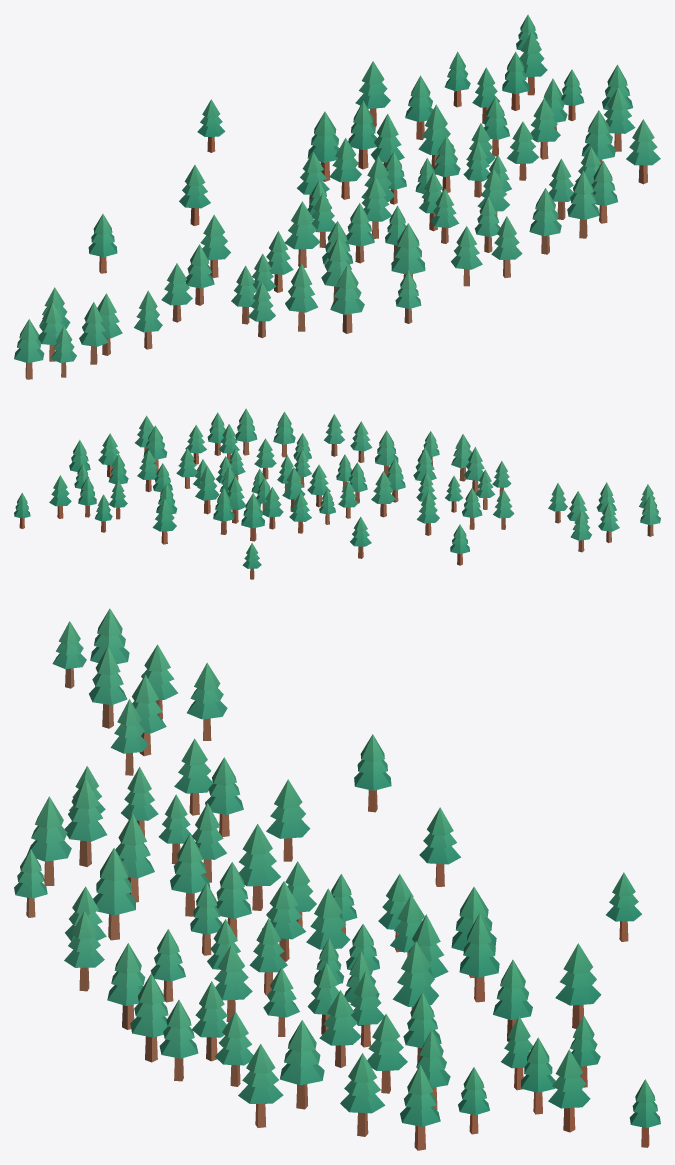
Rendered from forest_band_menu_far_R.fbx.
The picture shows the model from 3 angles, top to bottom: view 1: azimuth 30°, elevation 25°; view 2: azimuth 150°, elevation 25°; view 3: azimuth 270°, elevation 25°; orthographic projection. The views are drawn at different scales.
Parts seen in each view (by area): view 1: forest_band_menu_far_R; view 2: forest_band_menu_far_R; view 3: forest_band_menu_far_R.
Boxes of the visible parts, box(x1,y1,x2,y2) form: forest_band_menu_far_R: box(14, 14, 660, 379); forest_band_menu_far_R: box(14, 408, 660, 579); forest_band_menu_far_R: box(14, 608, 660, 1150).
Bounding box in the file's own units: 60.32 × 5.64 × 35.26.
